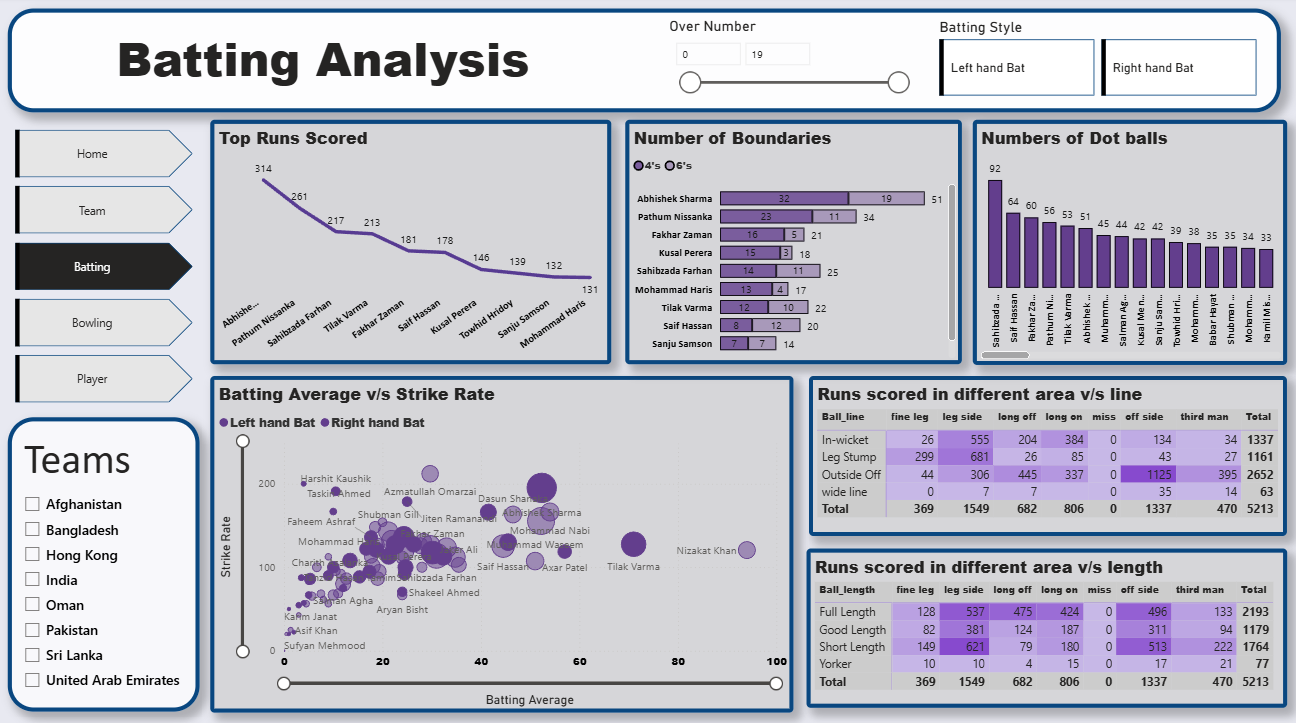

This screenshot's page, from the dashboard's own definition file:
{"tool":"powerbi","page":{"name":"Batting","canvas":[1500,850],"ordinal":2},"visuals":[{"type":"textbox","box":[10,15,1470,120],"z":0},{"type":"pageNavigator","box":[18.3,155,205,316.7],"z":1000},{"type":"textbox","box":[10,486.7,221.7,340],"z":2000},{"type":"slicer","fields":{"Values":["ball_by_ball.Batsman_team"]},"box":[17.7,567.7,204.8,253.2],"z":3000},{"type":"advancedSlicerVisual","title":"Batting Style","fields":{"Values":["ball_by_ball.batting_style"]},"box":[1080.6,25.8,377.4,95.2],"z":4000},{"type":"lineChart","title":"Top Runs Scored","fields":{"Y":["page_ball_by_ball.Run_scored"],"Category":["page_ball_by_ball.Batsman_name"]},"box":[243.5,143.5,462.9,282.3],"z":5000},{"type":"scatterChart","title":"Batting Average v/s  Strike Rate","fields":{"X":["ball_by_ball.Batting Average"],"Category":["ball_by_ball.Batsman_name"],"Y":["ball_by_ball.Strike Rate"],"Series":["ball_by_ball.batting_style"],"Size":["ball_by_ball.Run_scored"]},"box":[243.6,438.7,673.7,388.8],"z":6000},{"type":"slicer","title":"Over Number","fields":{"Values":["ball_by_ball.over_number"]},"box":[769.4,24.2,290.3,96.8],"z":7000},{"type":"pivotTable","title":"Runs scored in different area v/s line","fields":{"Rows":["ball_by_ball.Ball_line"],"Columns":["ball_by_ball.Shot_area"],"Values":["ball_by_ball.Run_scored"]},"box":[935.5,438.7,551.6,185],"z":8000},{"type":"pivotTable","title":"Runs scored in different area v/s length","fields":{"Columns":["ball_by_ball.Shot_area"],"Values":["ball_by_ball.Run_scored"],"Rows":["ball_by_ball.Ball_length"]},"box":[932.3,638.7,554.8,183.9],"z":9000},{"type":"barChart","title":"Number of Boundaries","fields":{"Category":["ball_by_ball.Batsman_name"],"Y":["ball_by_ball.4's","ball_by_ball.6's"]},"box":[722.6,143.5,388.7,282.3],"z":10000},{"type":"columnChart","title":"Numbers of Dot balls","fields":{"Y":["ball_by_ball.0's"],"Category":["ball_by_ball.Batsman_name"]},"box":[1124,143.1,363.4,283],"z":11000}]}

Visuals, with their boxes in screenshot pixels (x1, y1, x2, y2), scaled from the page's 1500x850 canvas onto the 1296x723 screenshot:
textbox: x1=9, y1=13, x2=1279, y2=115
pageNavigator: x1=16, y1=132, x2=193, y2=401
textbox: x1=9, y1=414, x2=200, y2=703
slicer - ball_by_ball.Batsman_team: x1=15, y1=483, x2=192, y2=698
"Batting Style" advancedSlicerVisual: x1=934, y1=22, x2=1260, y2=103
"Top Runs Scored" lineChart: x1=210, y1=122, x2=610, y2=362
"Batting Average v/s  Strike Rate" scatterChart: x1=210, y1=373, x2=793, y2=704
"Over Number" slicer: x1=665, y1=21, x2=916, y2=103
"Runs scored in different area v/s line" pivotTable: x1=808, y1=373, x2=1285, y2=531
"Runs scored in different area v/s length" pivotTable: x1=806, y1=543, x2=1285, y2=700
"Number of Boundaries" barChart: x1=624, y1=122, x2=960, y2=362
"Numbers of Dot balls" columnChart: x1=971, y1=122, x2=1285, y2=362
